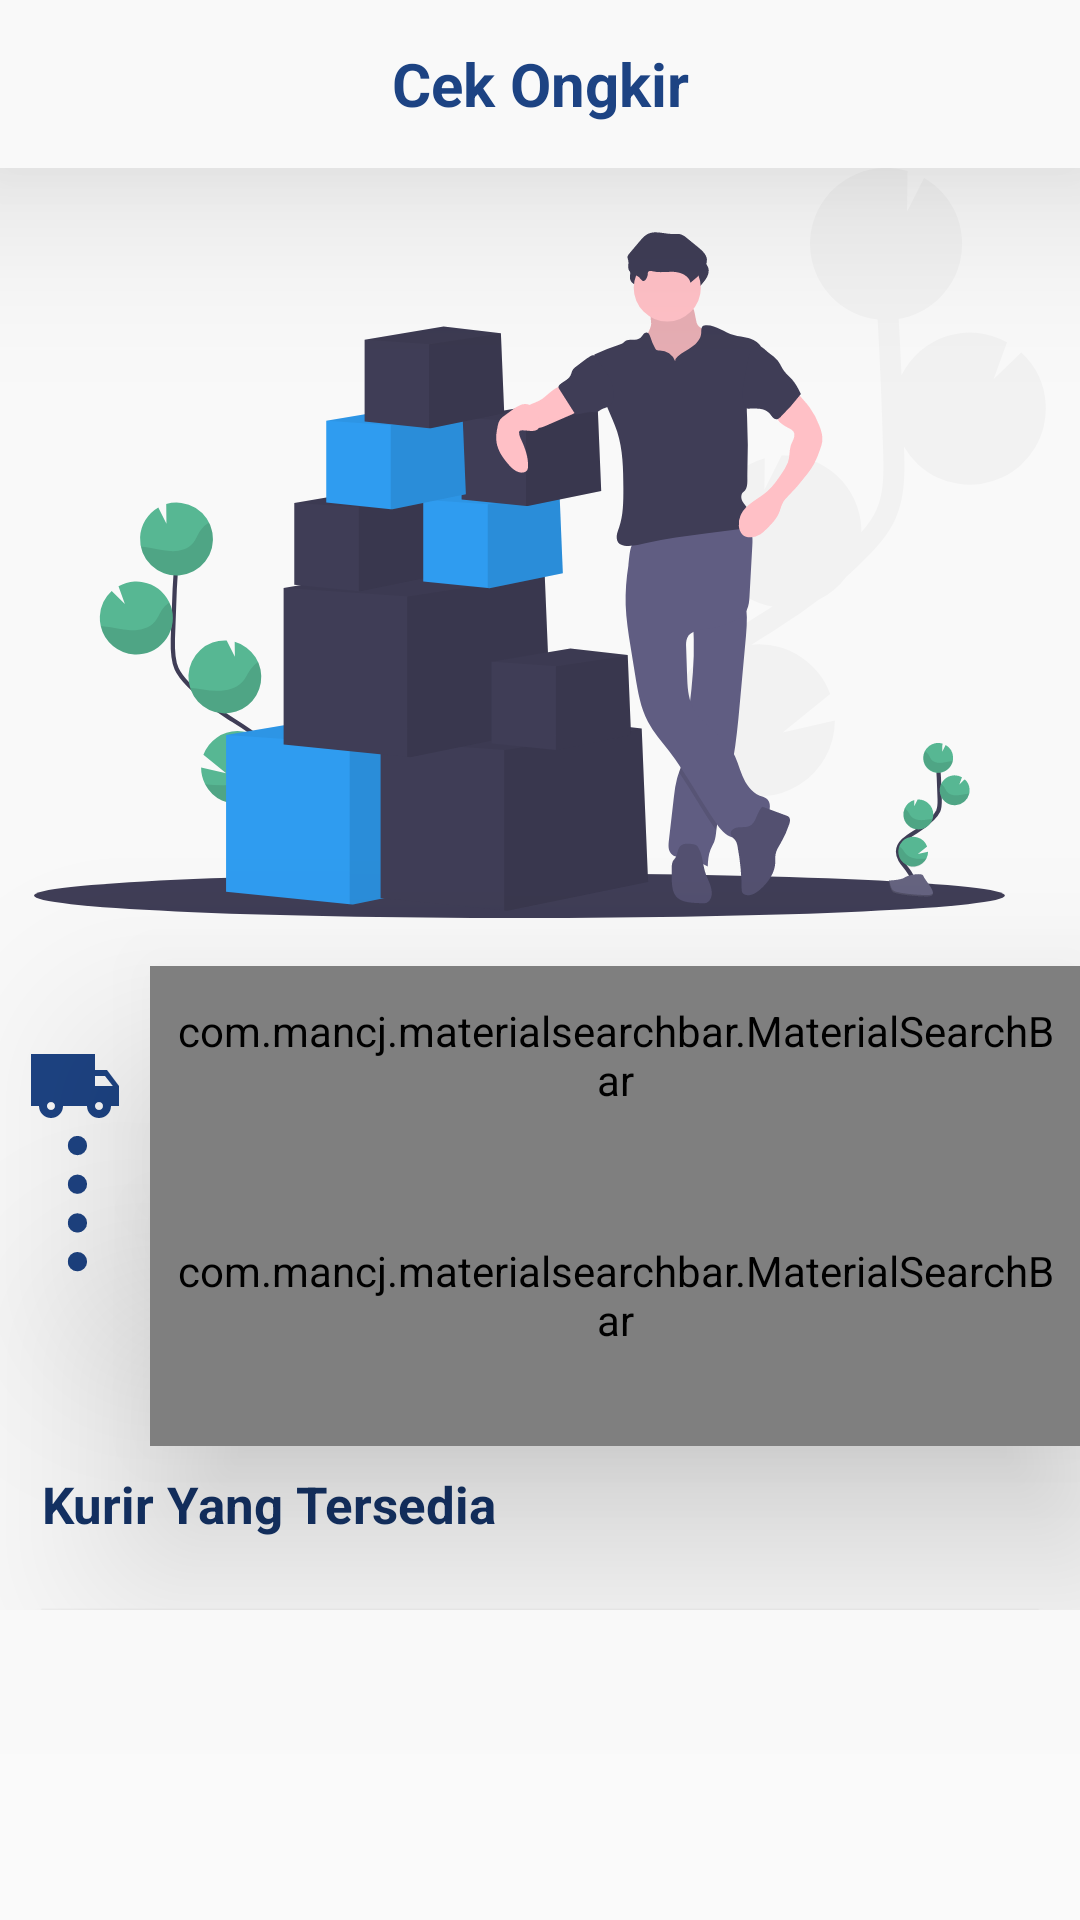

Named icons in this screenshot (1080 x 1920) and their centers, point (x, y):
dot: point (75, 1206)
